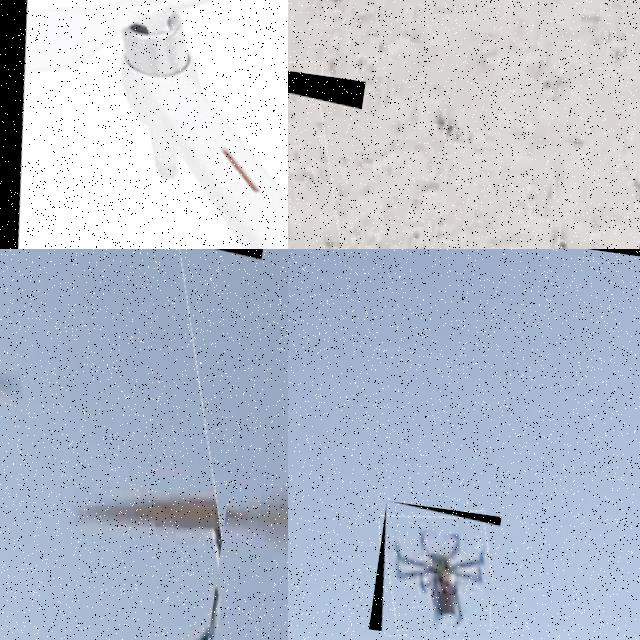drone: (0, 249, 267, 640), (0, 0, 288, 249), (368, 501, 501, 640)
